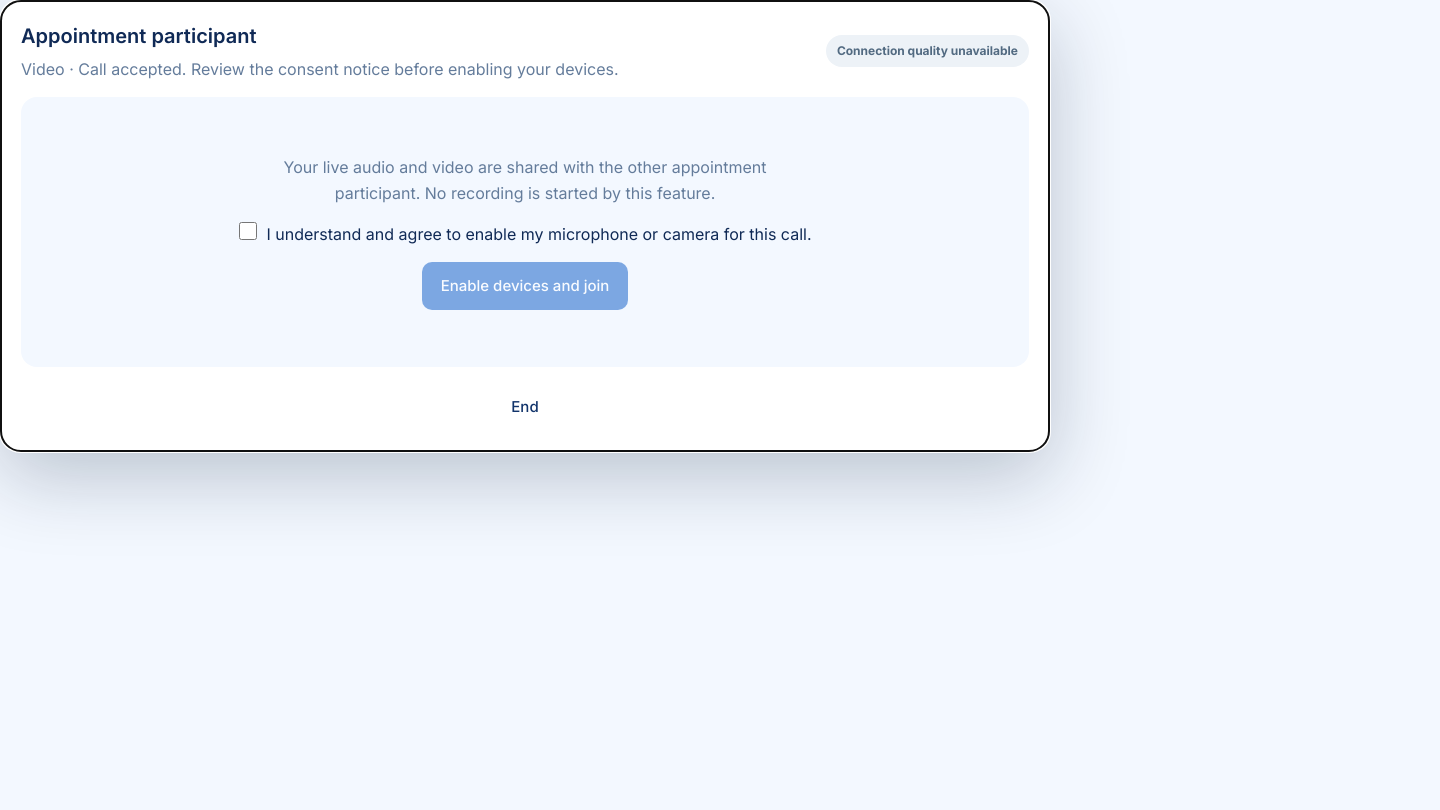
Test: WebRtcCallRoom › does not request media when no TURN relay is supplied
Click the checkbox.
click(248, 231)  # box [238,222,256,240]
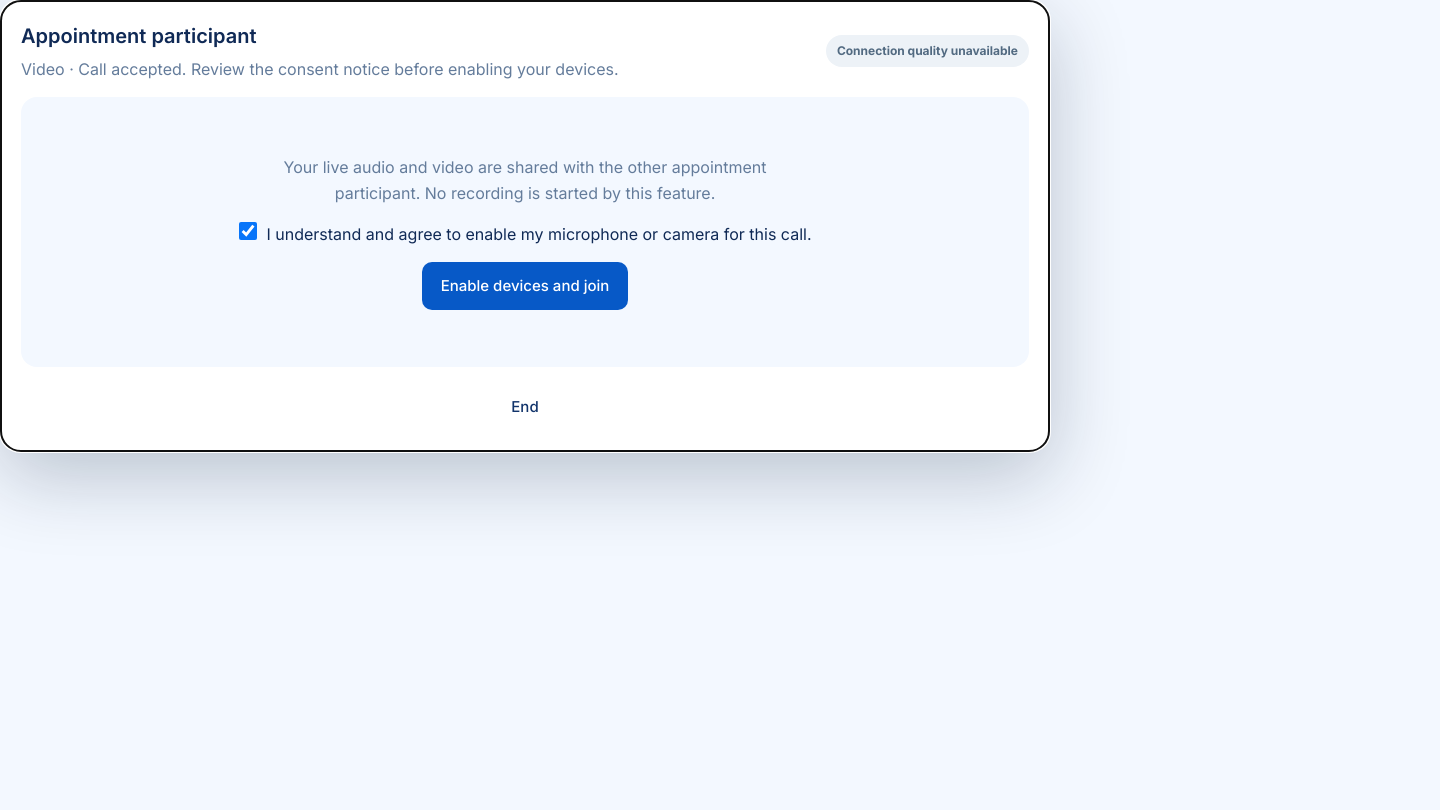
Click the button "Enable devices and join".
click(525, 286)  # box [422,262,628,310]
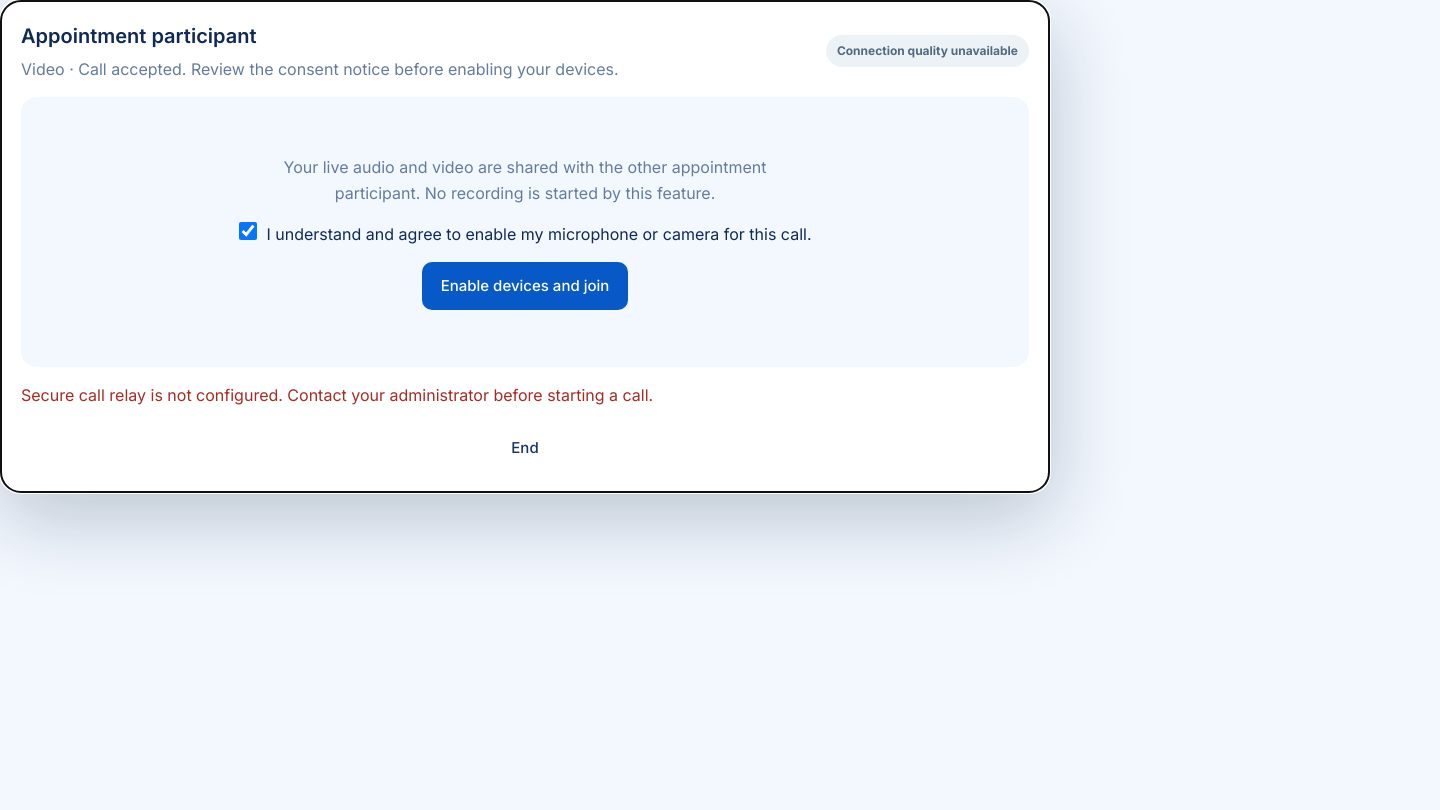
Expected: the message shows "Secure call relay is not configured. Contact your administrator before starting a call.", [21,385,653,405]
